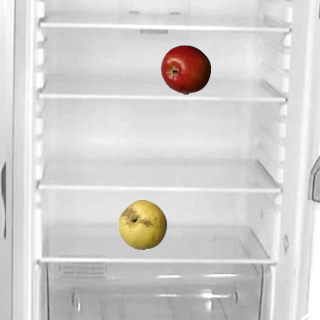Apple Braeburn: (160, 44, 210, 94)
Apple Golden 1: (117, 199, 167, 249)
